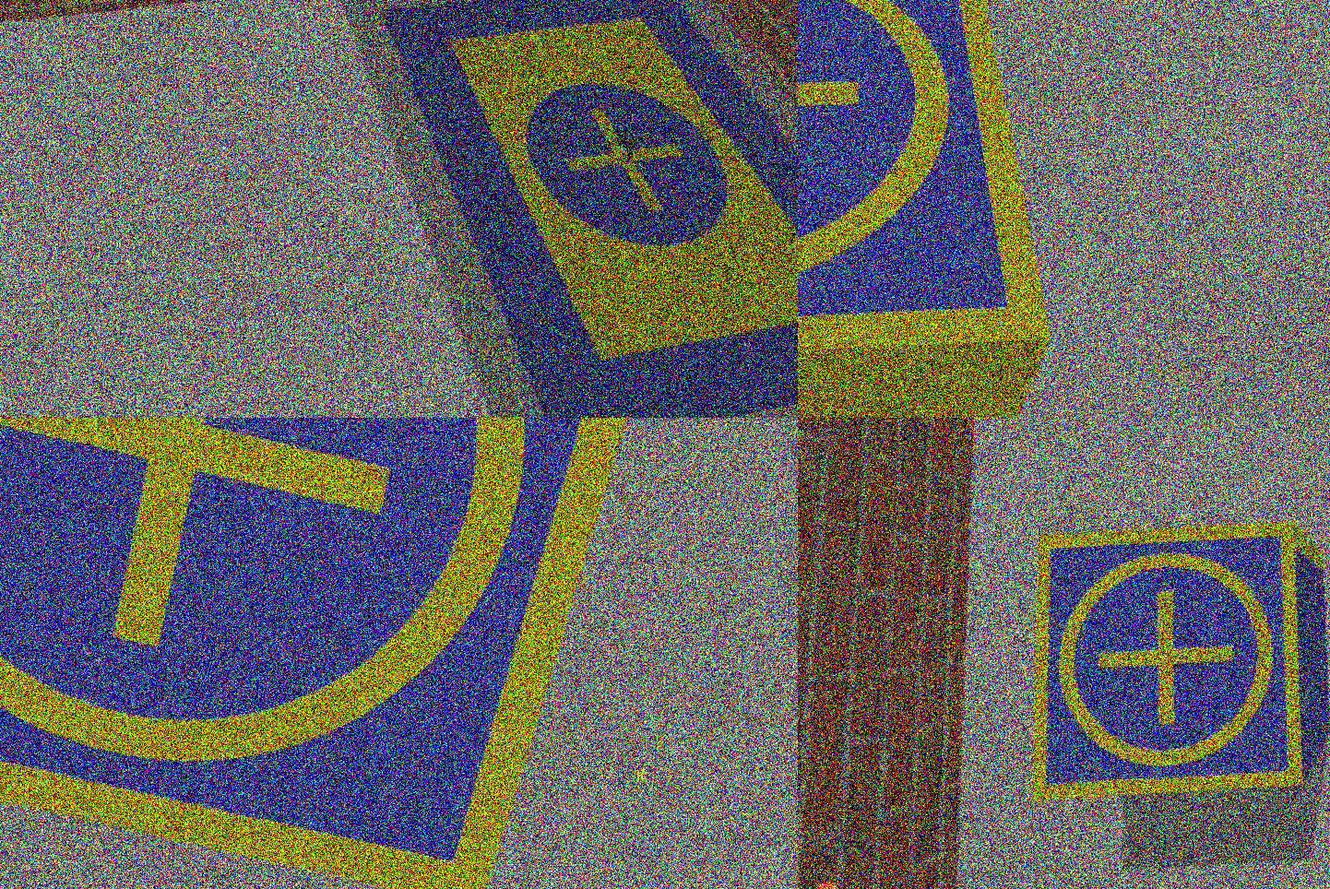large_base: (356, 1, 798, 419)
small_base: (1, 419, 730, 889), (798, 1, 1076, 419), (1024, 509, 1324, 819)
